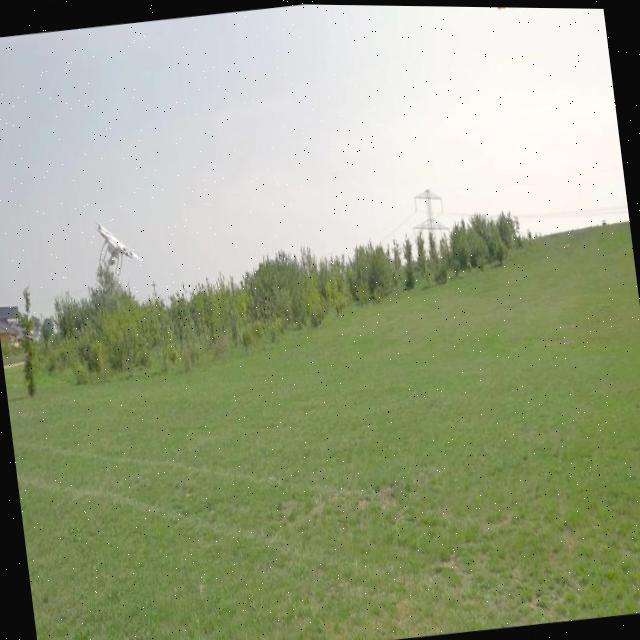drone: (90, 210, 145, 283)
